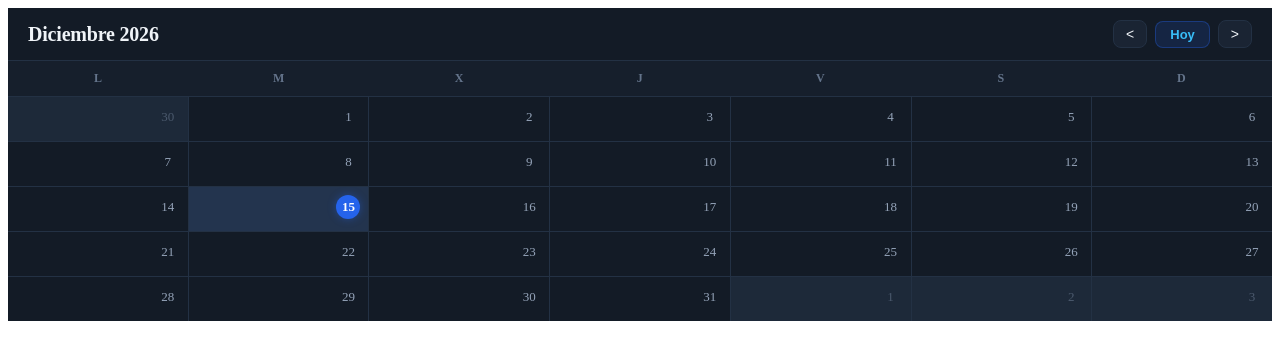
MonthlyCalendarGrid Component › debería cambiar de año al avanzar más allá de Diciembre
Click the button named "mes siguiente" at (1235, 34), box top-left (1218, 20), bottom-right (1252, 48)
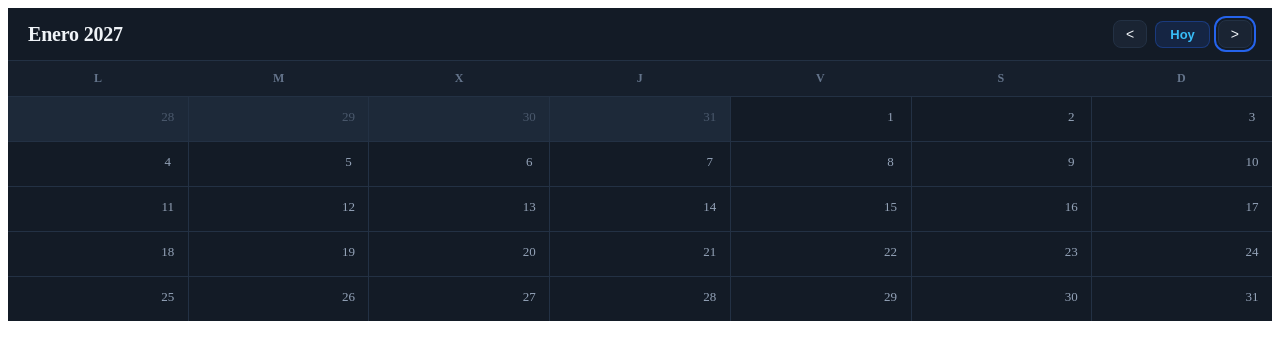
Now the heading reads "Enero 2027", box top-left (28, 22), bottom-right (123, 46)
